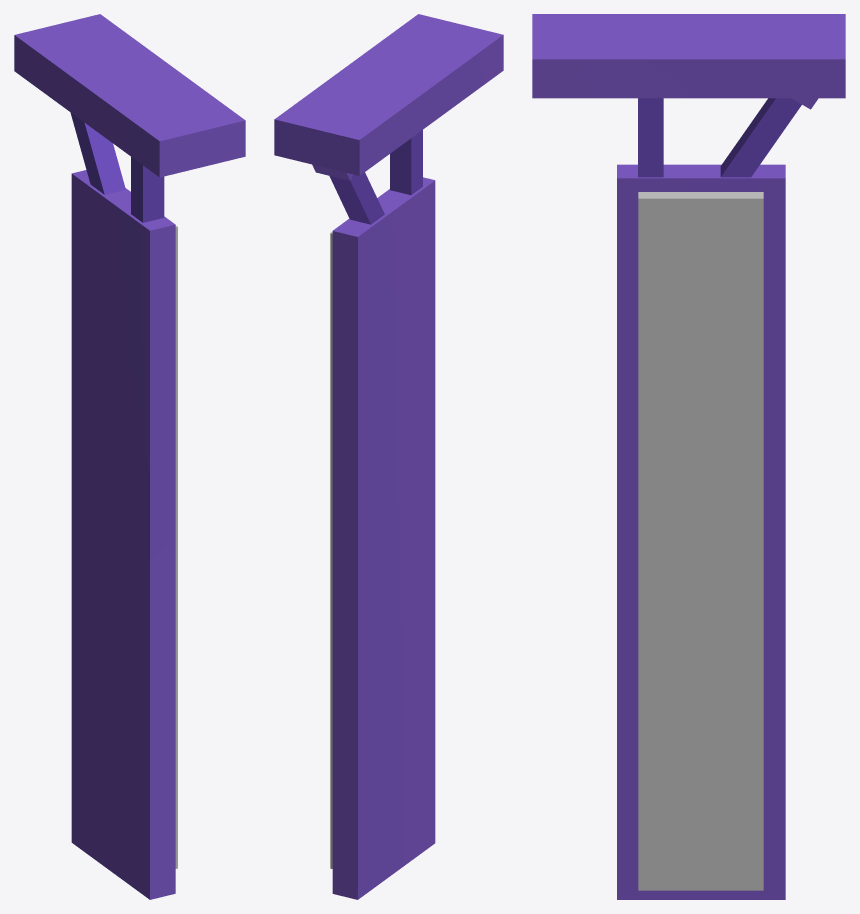
The model's file is SignProp_1_C_6.fbx.
3 renders of one model, left to right at view 1: azimuth 30°, elevation 25°; view 2: azimuth 150°, elevation 25°; view 3: azimuth 270°, elevation 25°, orthographic. The views are drawn at different scales.
Visible parts, largest first — view 1: SignProp_1_C_6; view 2: SignProp_1_C_6; view 3: SignProp_1_C_6.
Boxes of the visible parts, bbox=[...] form: SignProp_1_C_6: bbox=[14, 14, 245, 899]; SignProp_1_C_6: bbox=[274, 14, 503, 899]; SignProp_1_C_6: bbox=[532, 14, 845, 899].
Bounding box in the file's own units: 20.79 × 184 × 60.95.
